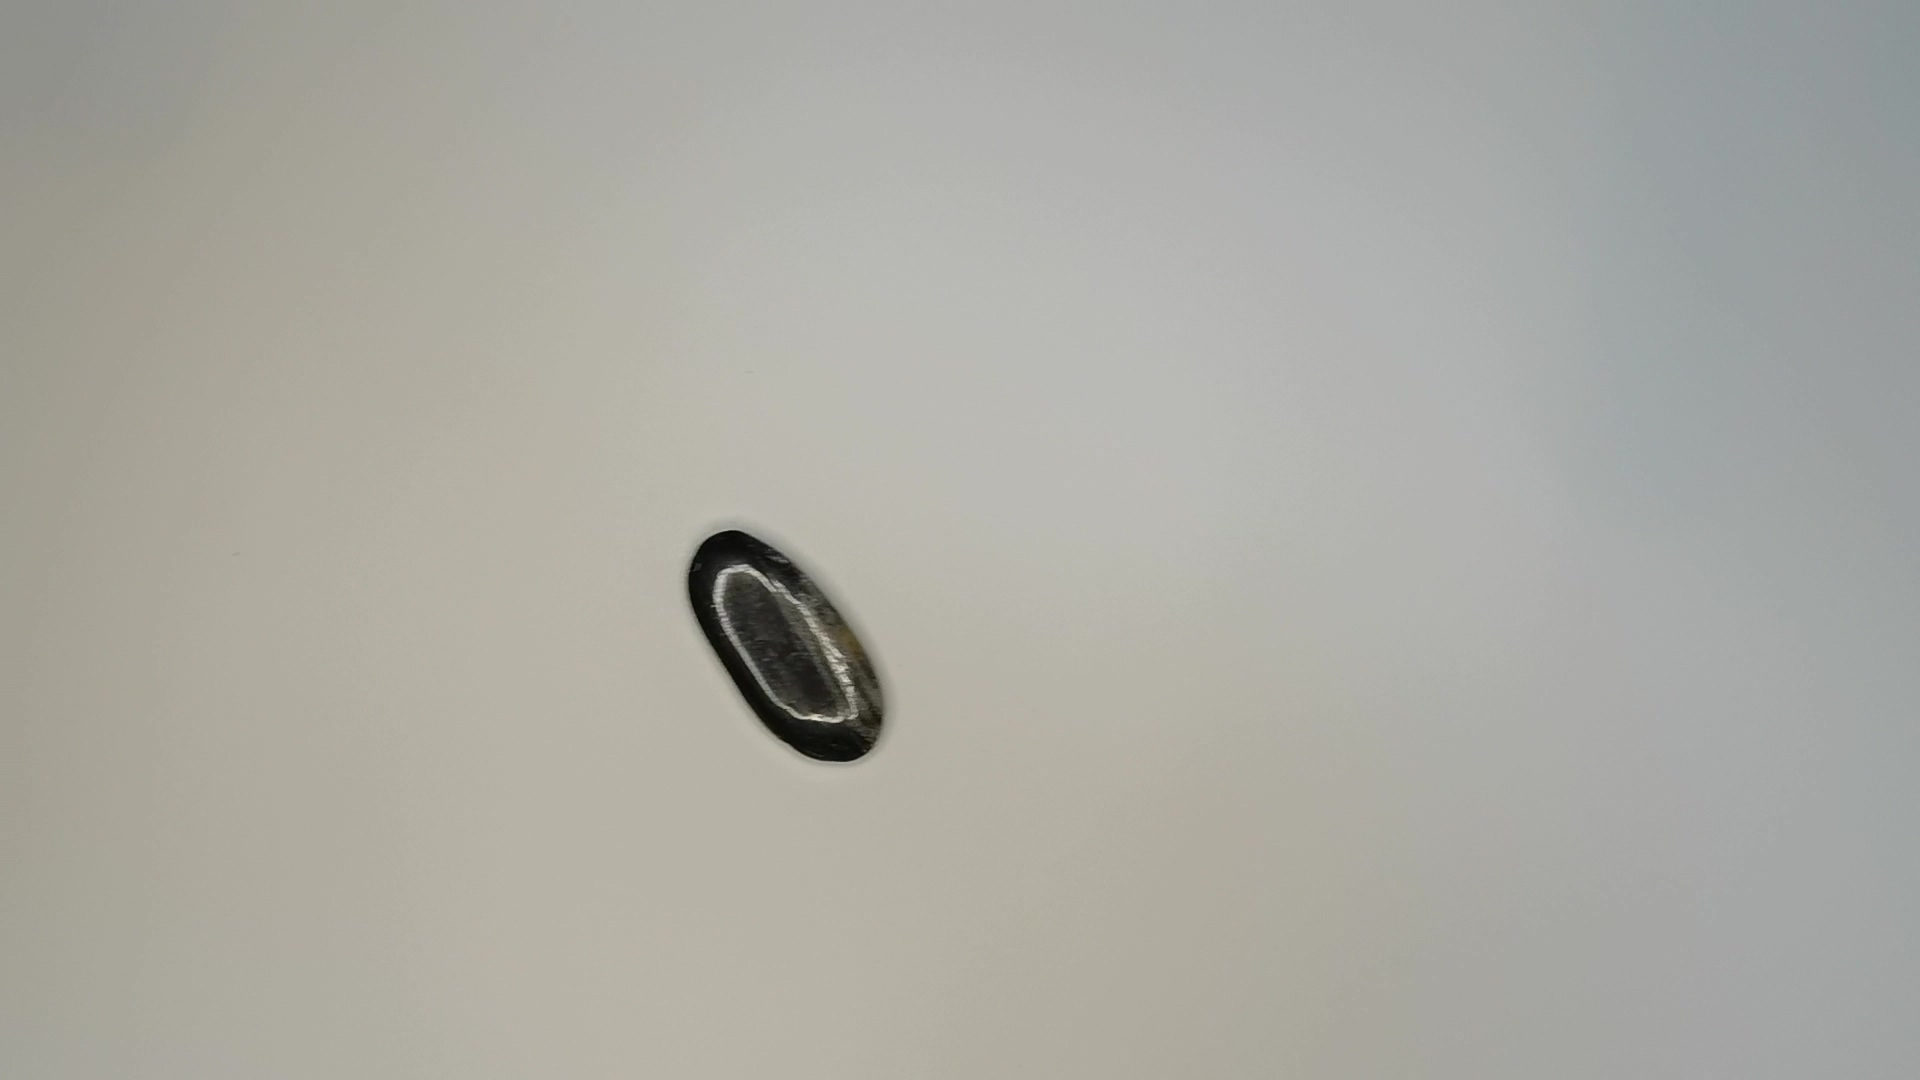ceramic: (691, 524, 899, 769)
